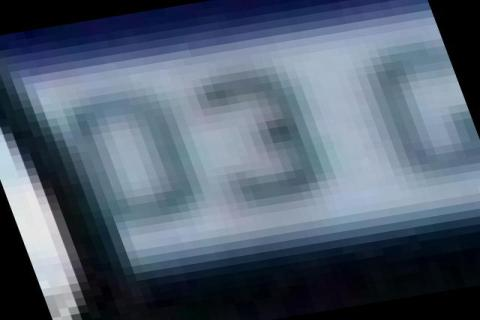LicensePlate: (0, 0, 480, 305)
